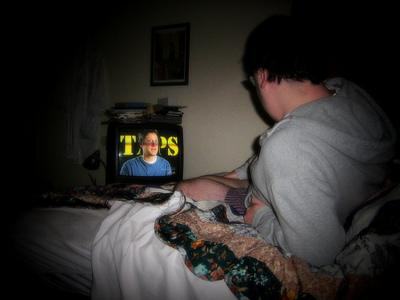person: (174, 18, 400, 267)
